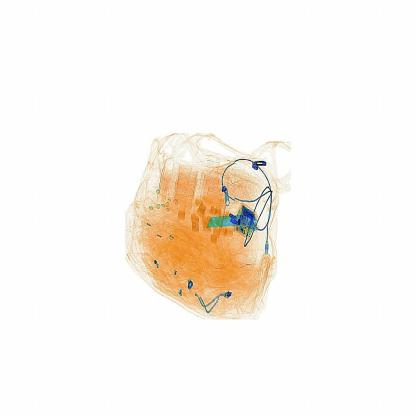pliers: (206, 206, 260, 239)
